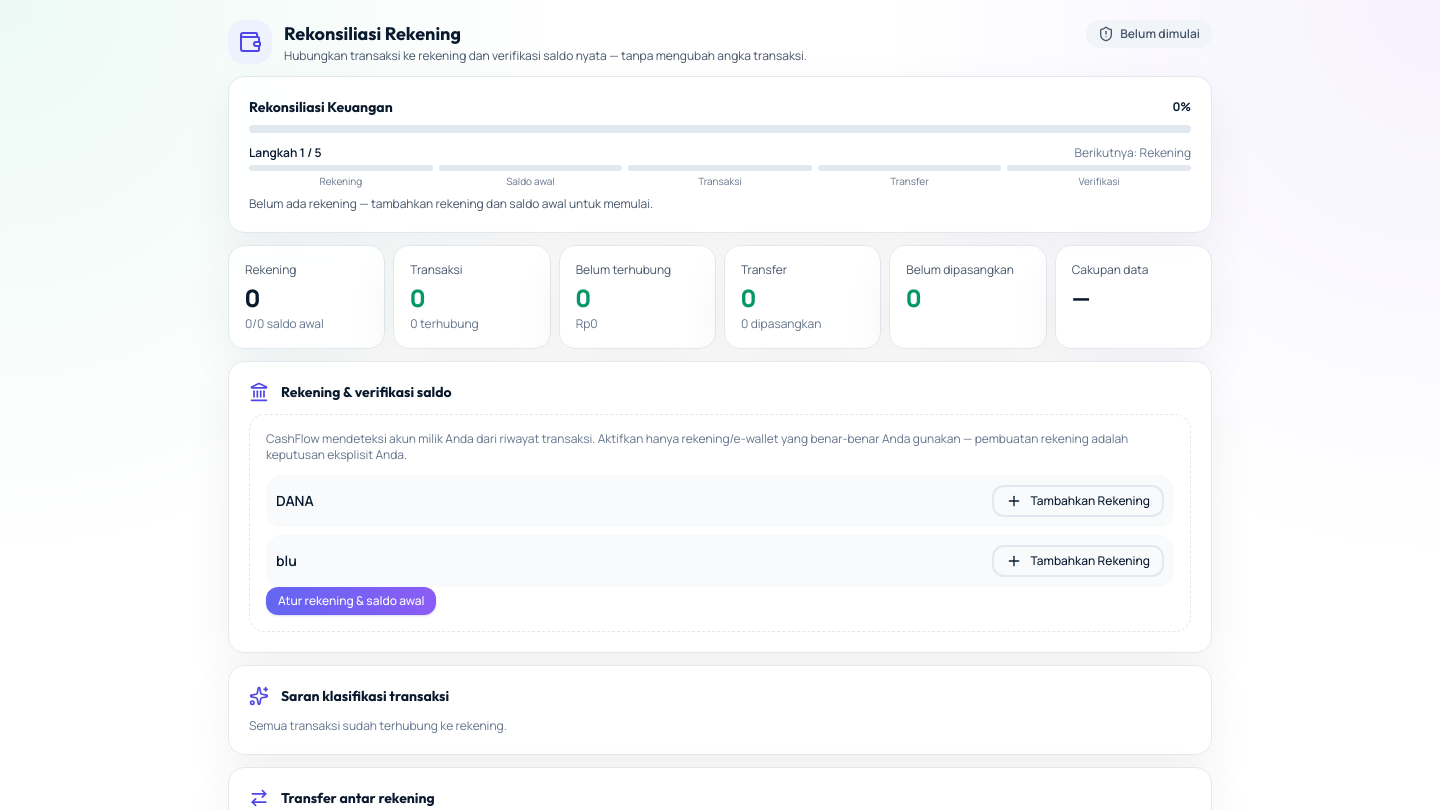
Scenario: ReconciliationPage P2.8 — aktivasi akun kandidat › inferensi tipe: DANA → e-wallet; blu → bank
This screenshot has width=1440, height=810.
Step 1. Click the button "Tambahkan Rekening" in the row of "DANA" → (1078, 500), box [992,484,1164,516]
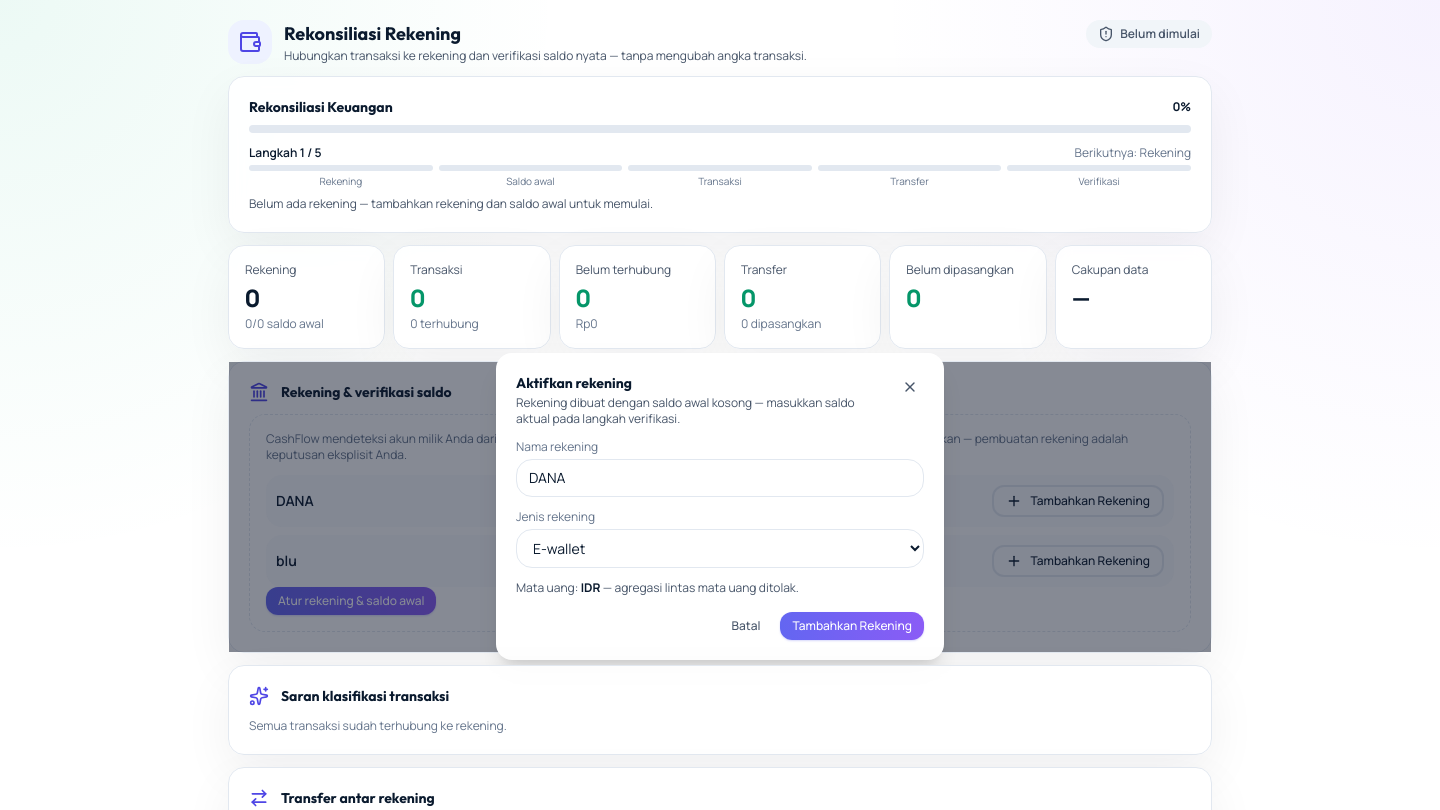
Expected: the dropdown labelled "Jenis rekening" shows "E-wallet", [516,529,924,568]
